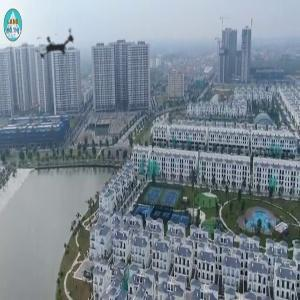drone: (21, 13, 91, 83)
